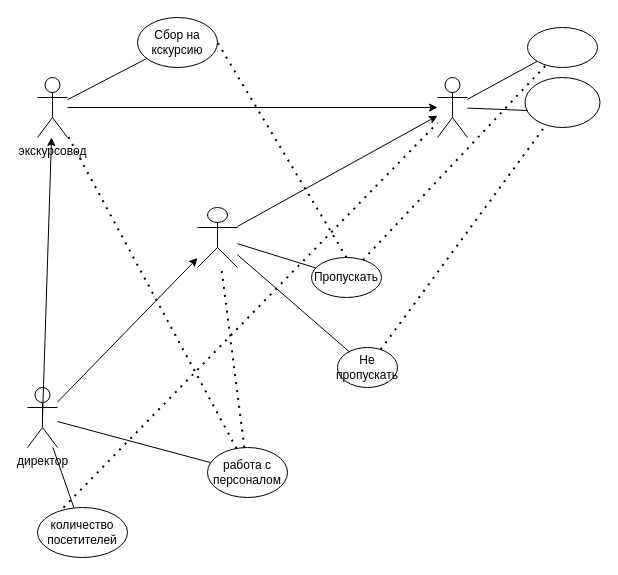
This 618x575 diagram has some shape labels left out. Each missing label, with the centre of its shape:
Купить билет: (x=562, y=47)
Не покупать билет: (x=562, y=102)
охрана: (x=217, y=237)
посетитель: (x=452, y=107)
